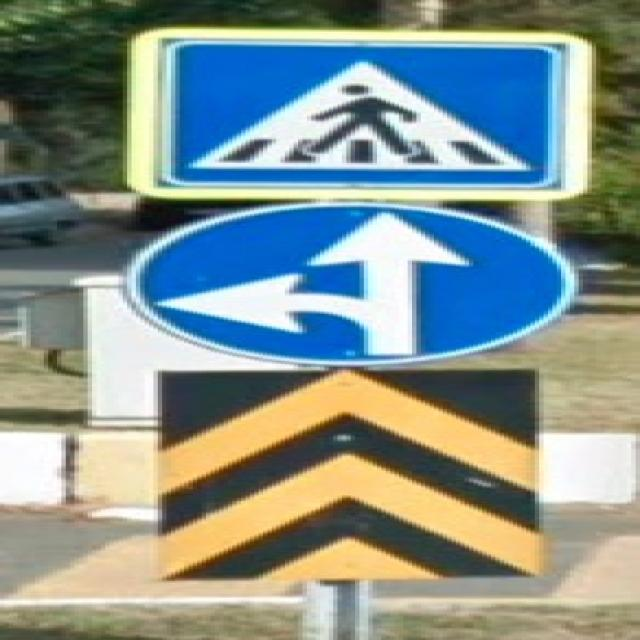Straight or Left: (124, 203, 575, 364)
